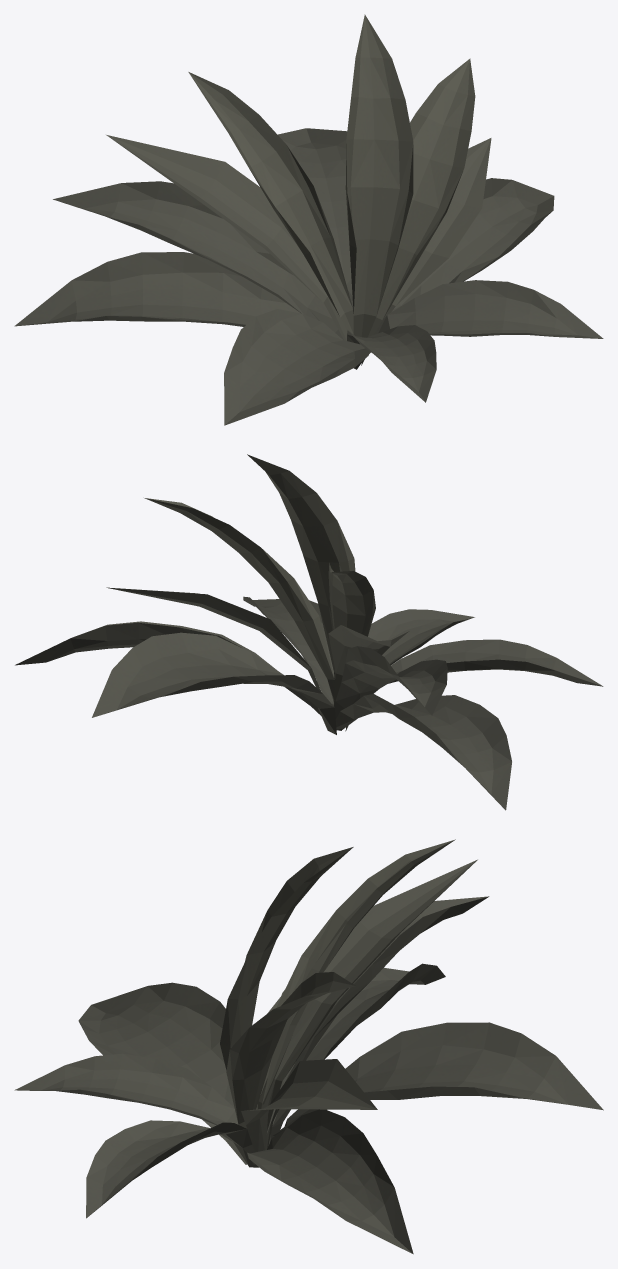
The model's file is DesertAgave02.fbx.
3 views of the same model, one above another, from view 1: azimuth 30°, elevation 25°; view 2: azimuth 150°, elevation 25°; view 3: azimuth 270°, elevation 25° (orthographic). The views are drawn at different scales.
Parts seen in each view (by area): view 1: SM_ENV_Nature_DesertAgave_02.mo; view 2: SM_ENV_Nature_DesertAgave_02.mo; view 3: SM_ENV_Nature_DesertAgave_02.mo.
Part boxes in pixels (x1,y1,x2,y2): SM_ENV_Nature_DesertAgave_02.mo: [14, 14, 603, 425]; SM_ENV_Nature_DesertAgave_02.mo: [15, 454, 603, 810]; SM_ENV_Nature_DesertAgave_02.mo: [14, 839, 603, 1254].
Size of the model in its own units: 639 by 357 by 546.
Materials: 1 (1 with a texture image).
